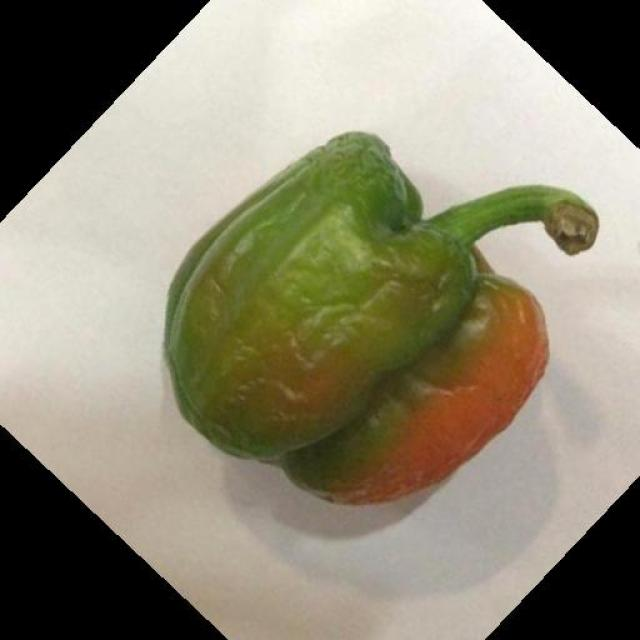Stale_Capsicum: (146, 124, 610, 522)
